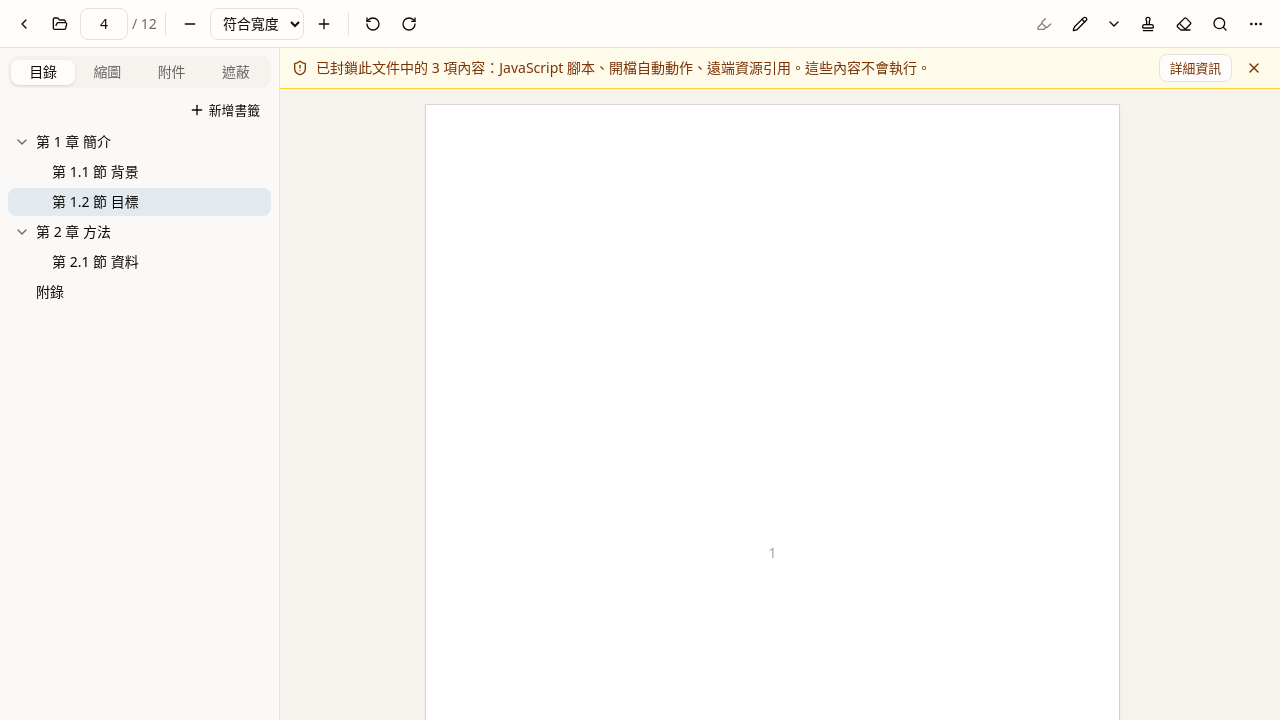
Test: undo and redo (B2-05) › asks again for the password of a document opened with one, and says when it is wrong (#94)
This screenshot has width=1280, height=720.
Type keys "{Control>}z{/Control}"
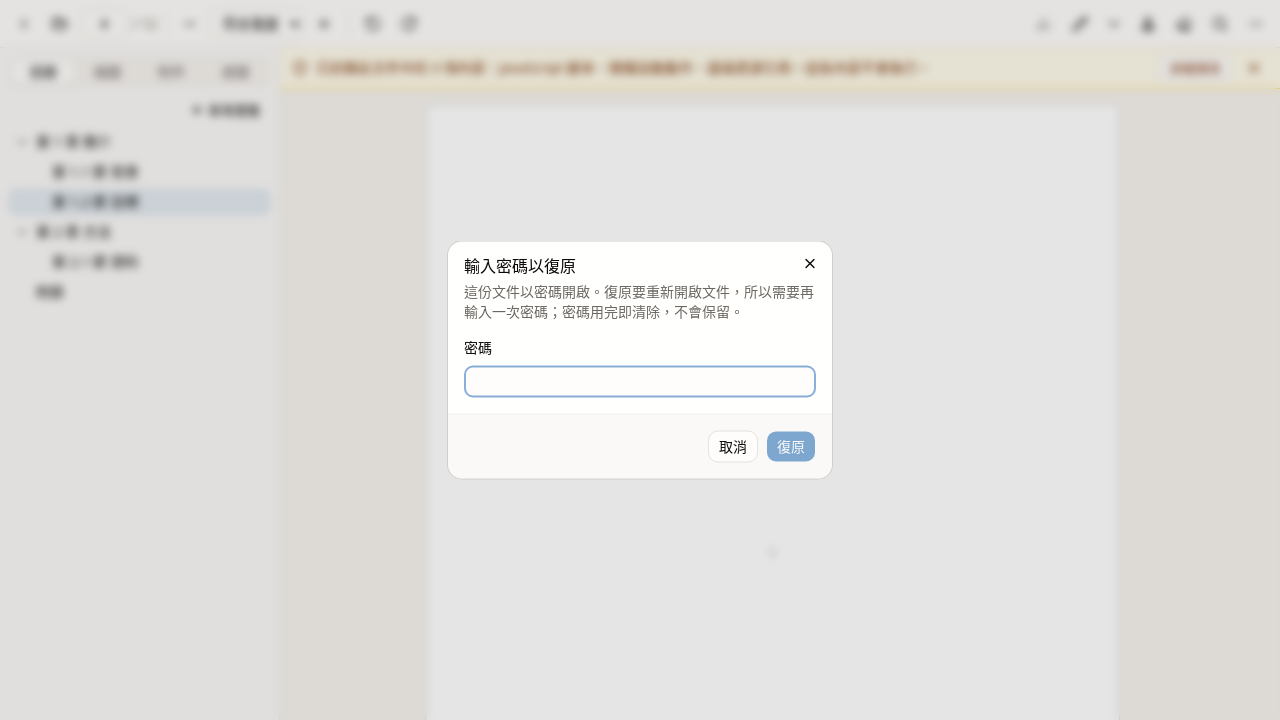
Type "wrong" into the password field labelled "密碼" at (640, 382), box [464,366,816,398]
Then press Enter
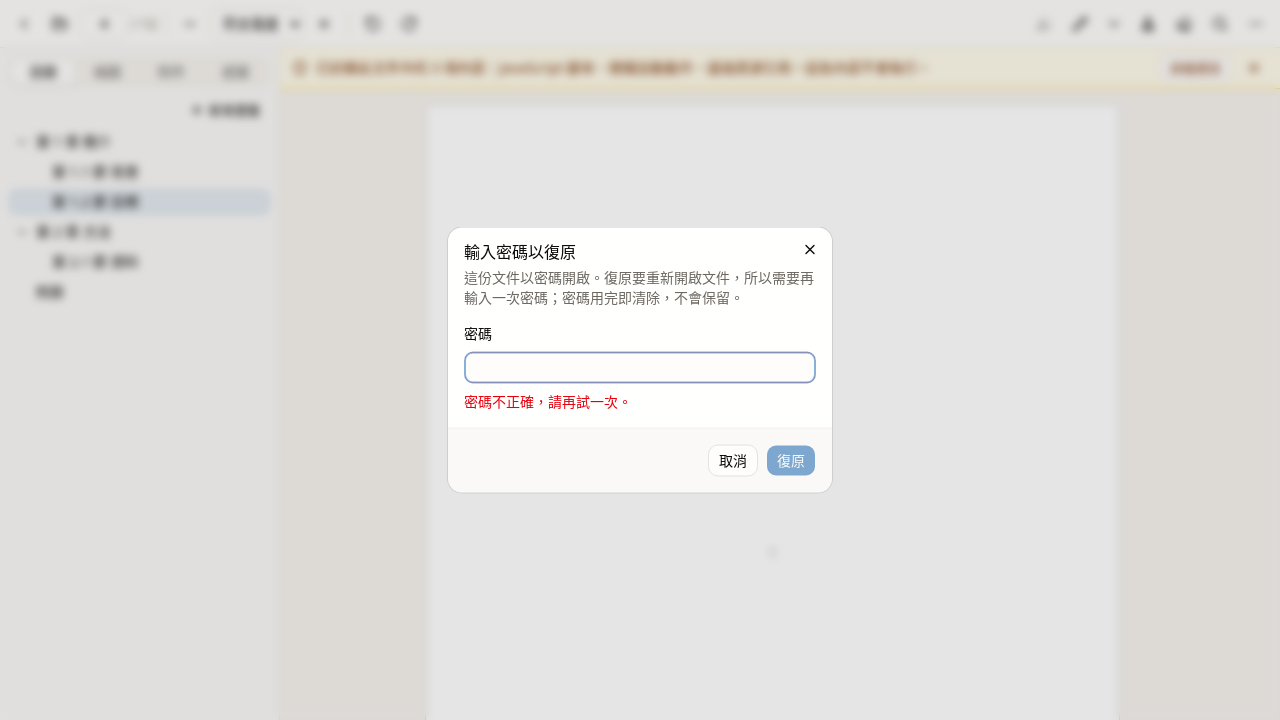
Now the password field labelled "密碼" is empty
Now the message reads "密碼不正確，請再試一次。", box [464,392,632,410]
Type "user" into the password field labelled "密碼" at (640, 368), box [464,352,816,384]
Then press Enter
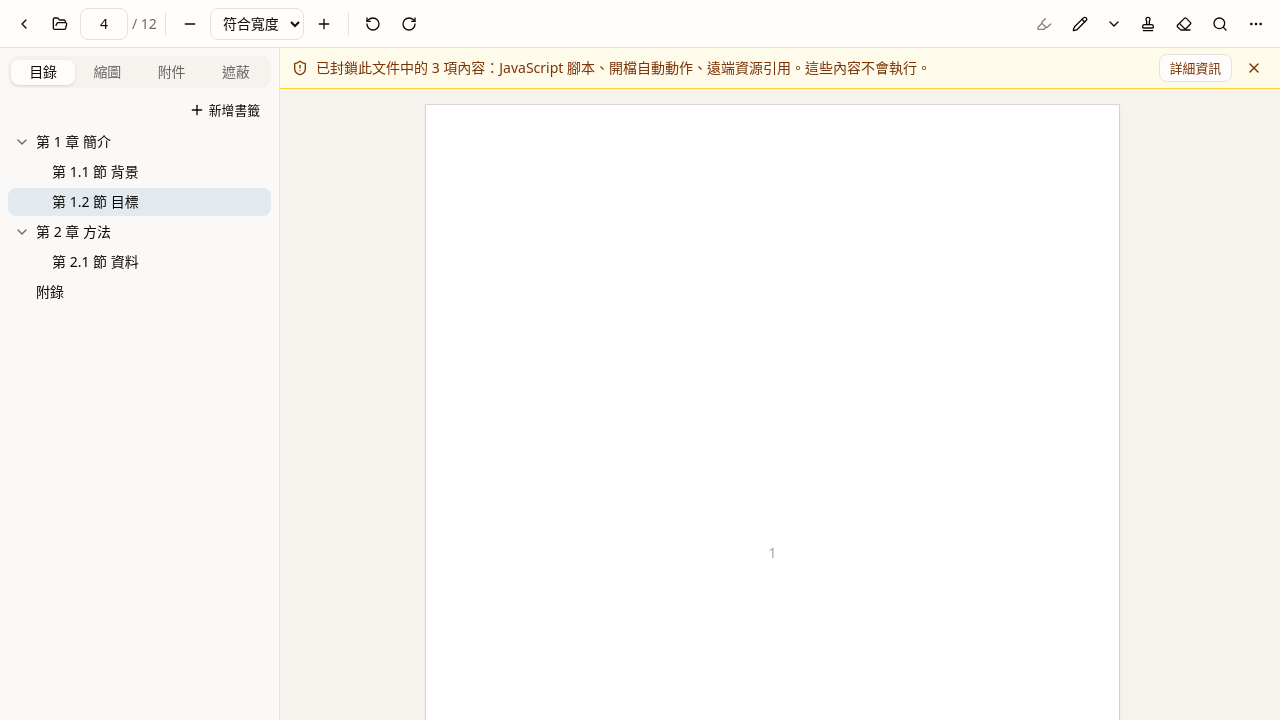
Now the heading "輸入密碼以復原" is gone
